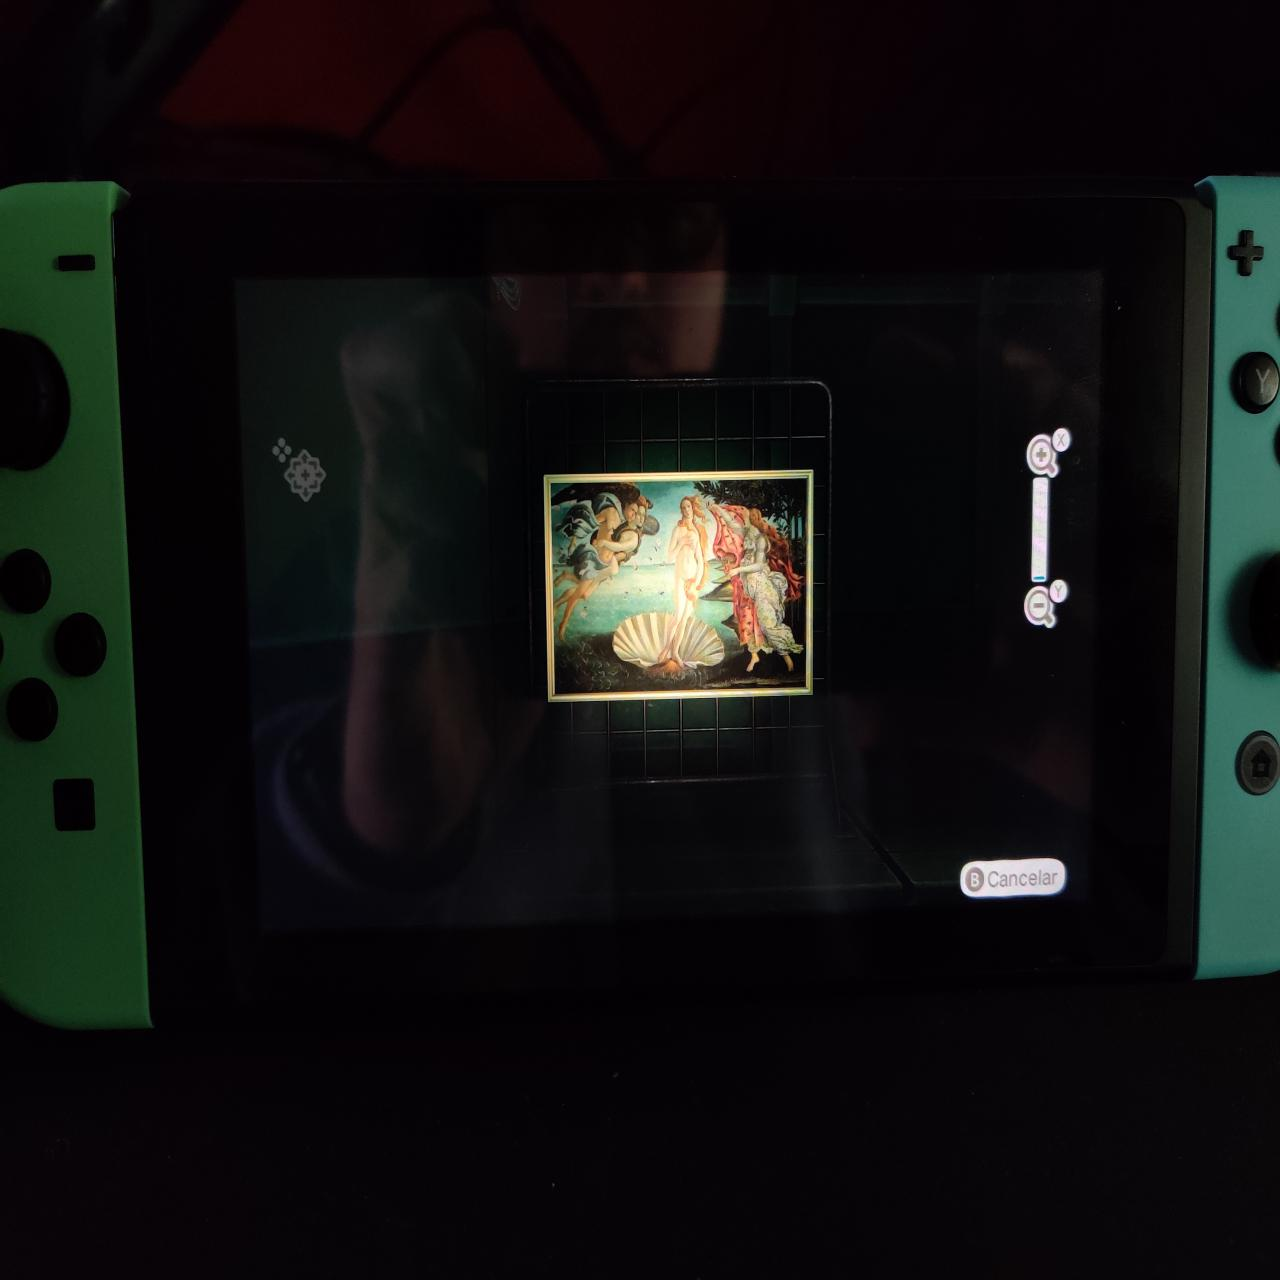BirthVenus: (554, 483, 811, 685)
